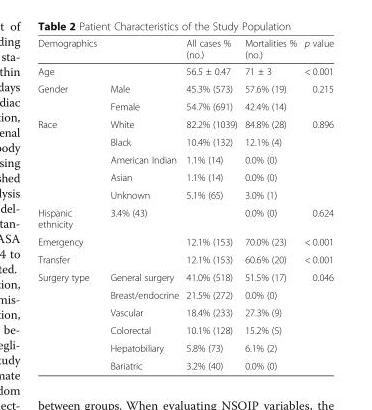table: (37, 37, 333, 370)
table column: (102, 37, 181, 370), (37, 37, 102, 370), (181, 37, 240, 370), (240, 37, 299, 370), (299, 37, 333, 370)
table column header: (37, 37, 333, 62)
table row: (37, 203, 333, 232), (37, 37, 333, 62), (37, 79, 333, 97), (37, 97, 333, 115), (37, 132, 333, 150), (37, 150, 333, 168), (37, 185, 333, 203), (37, 232, 333, 250), (37, 267, 333, 285), (37, 285, 333, 303), (37, 303, 333, 321), (37, 338, 333, 356), (37, 62, 333, 79), (37, 115, 333, 132), (37, 168, 333, 185), (37, 250, 333, 267), (37, 321, 333, 338), (37, 356, 333, 370)
table spanning cell: (37, 267, 102, 370), (37, 115, 102, 203), (102, 203, 240, 232), (299, 267, 333, 370), (299, 115, 333, 203), (37, 79, 102, 115), (299, 79, 333, 115)
